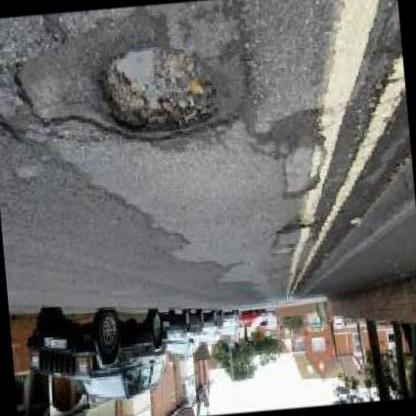pothole: (95, 38, 228, 144)
